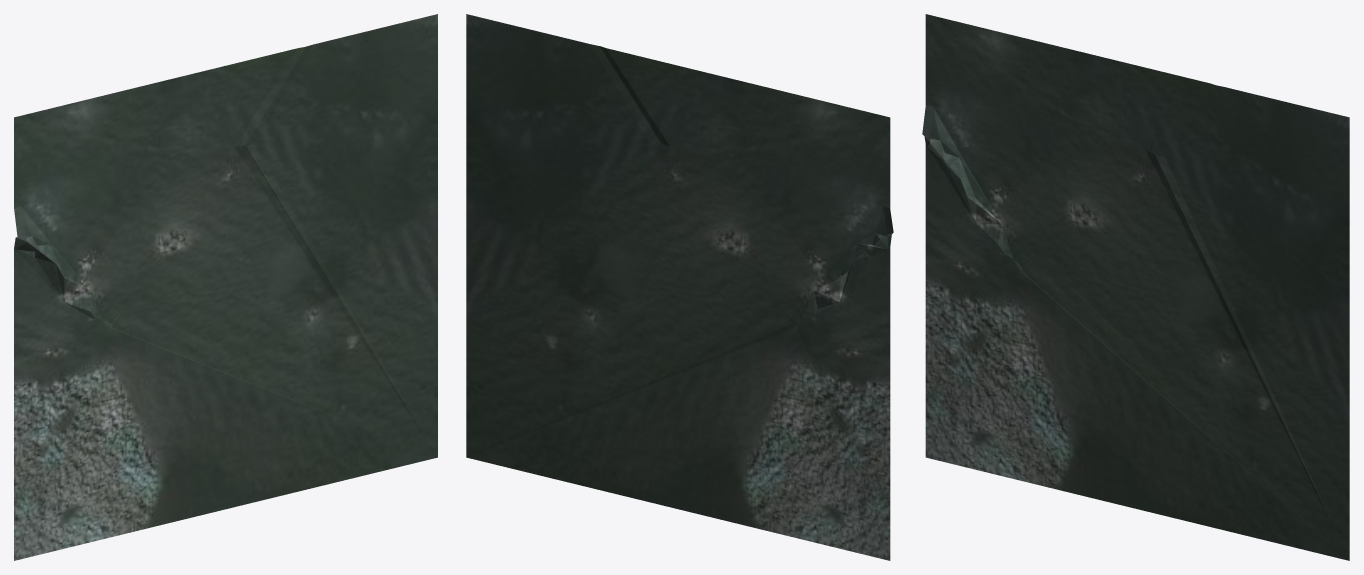
Rendered from Tile_+037_+018_L17_0001.glb.
3 views of the same model, side by side, from view 1: azimuth 30°, elevation 25°; view 2: azimuth 150°, elevation 25°; view 3: azimuth 330°, elevation 25° (orthographic).
Bounding box in the file's own units: 126 × 126 × 2.3.
Materials: 1 (1 with a texture image).
